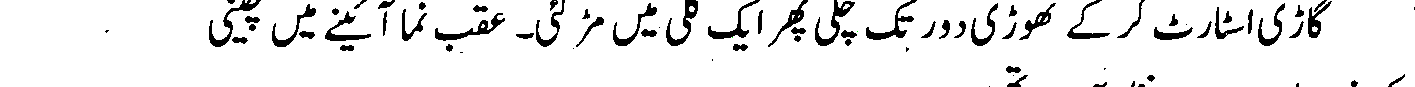bay_shosha: (431, 24, 472, 59)
